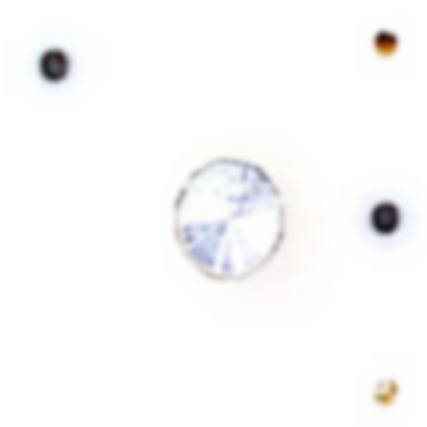abnormal: (150, 135, 333, 312)
cancer: (13, 32, 94, 105), (357, 190, 417, 251)
normal: (350, 15, 417, 73), (355, 357, 411, 413)
